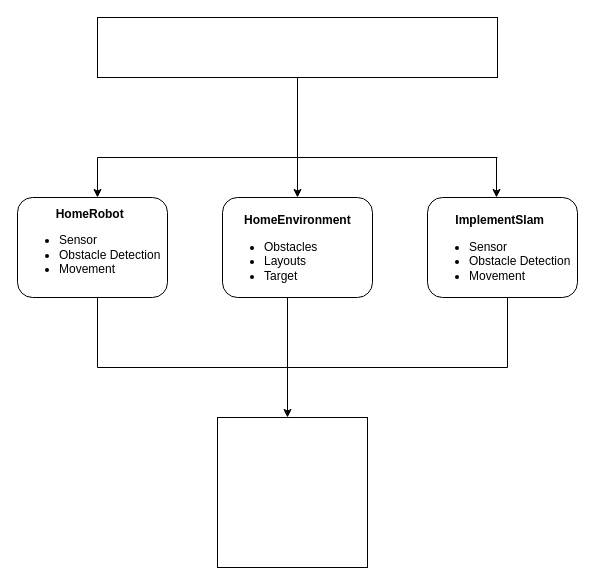
This 595x585 diagram has some shape labels left out. Here are the shapes that lost their labels. From the top down, the box of each, then its label:
(96, 16, 498, 78): SimulationManager (Game loop, event handling, update coordination)
(216, 416, 368, 568): UIManager Dashboard Stats and Controls Target Status
